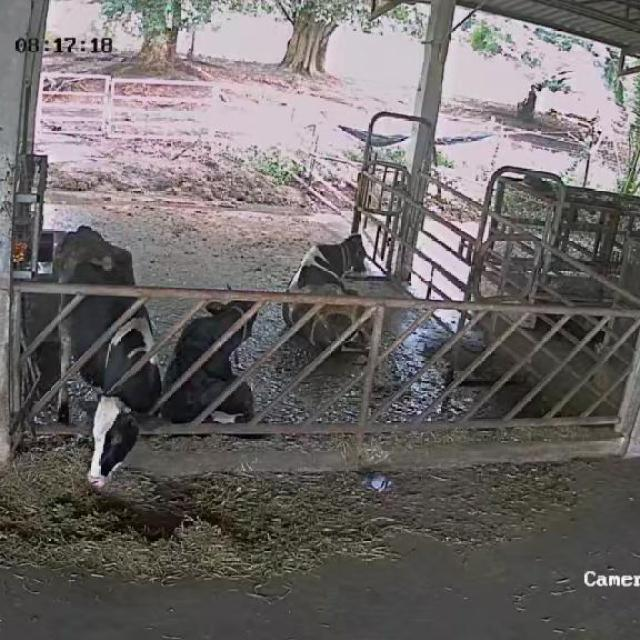feeding: (56, 233, 165, 499)
lying down: (167, 292, 262, 425), (282, 233, 378, 341)
